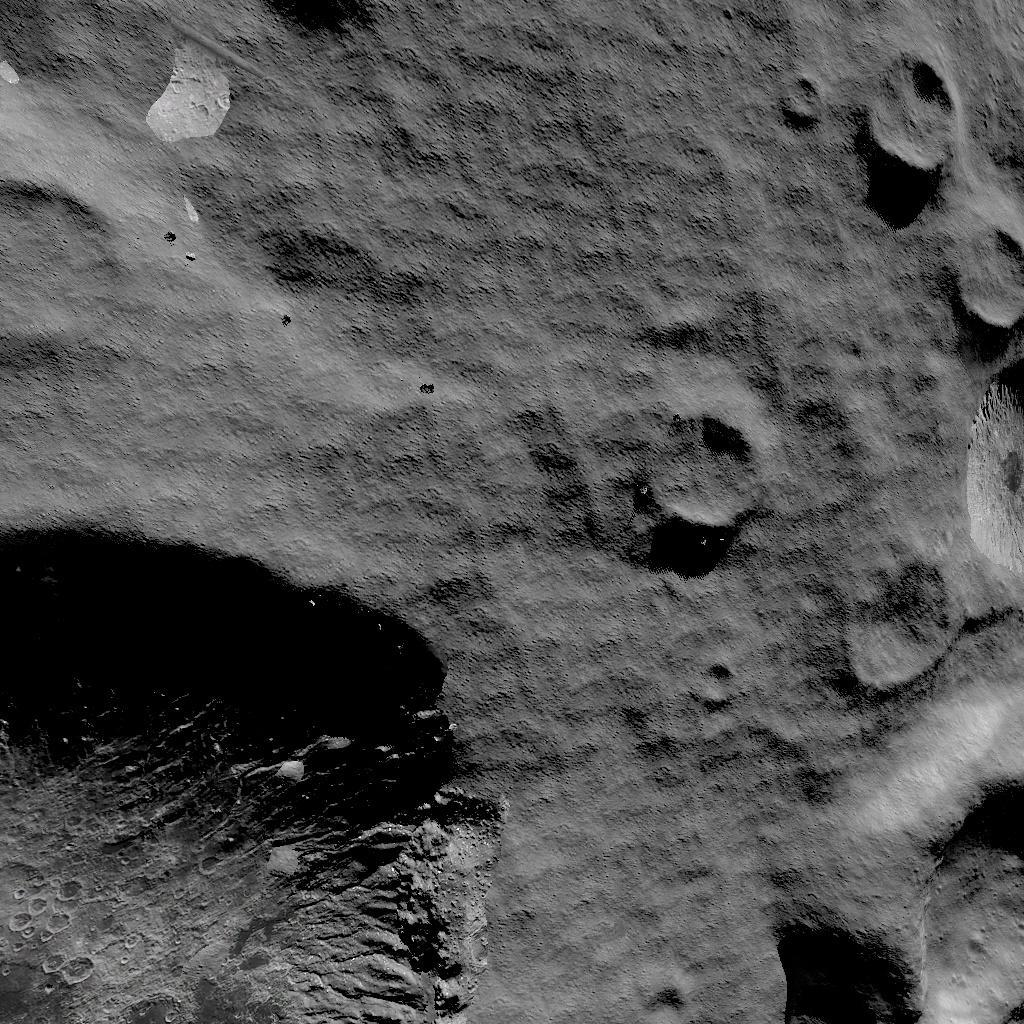Boulders: (145, 62, 234, 160)
Crater: (0, 516, 500, 1024), (819, 362, 1024, 702), (803, 744, 1024, 1024), (0, 180, 117, 382), (640, 402, 764, 536), (855, 59, 967, 193), (933, 226, 1024, 342), (771, 70, 828, 132)
Plan surface: (133, 178, 616, 498), (515, 760, 783, 982), (387, 0, 743, 153)
